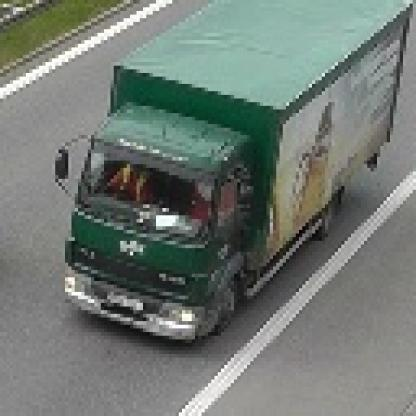truck: (50, 1, 411, 348)
